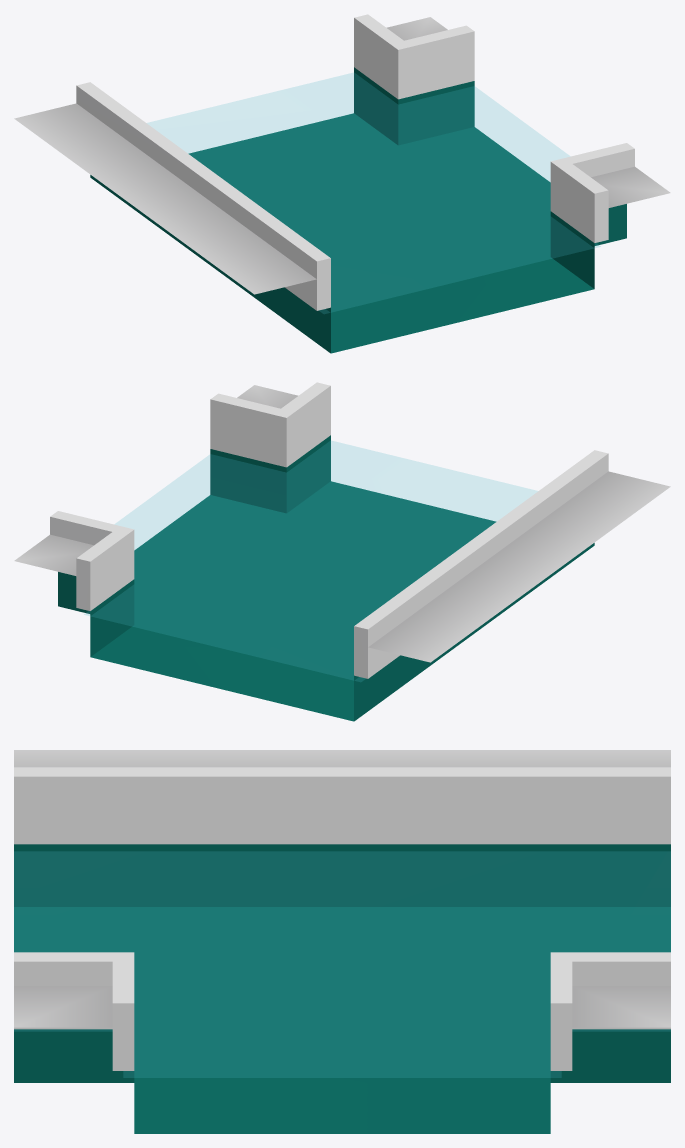
The model's file is Water_05.glb.
The picture shows the model from 3 angles, top to bottom: view 1: azimuth 30°, elevation 25°; view 2: azimuth 150°, elevation 25°; view 3: azimuth 270°, elevation 25°; orthographic projection. The views are drawn at different scales.
Visible parts, largest first — view 1: Water_05; view 2: Water_05; view 3: Water_05.
Boxes of the visible parts, x1,y1,x2,y2 form: Water_05: (14,14,670,353); Water_05: (14,382,670,721); Water_05: (14,750,670,1133).
Bounding box in the file's own units: 15 × 3.29 × 15.
2 materials, 2 textured.
